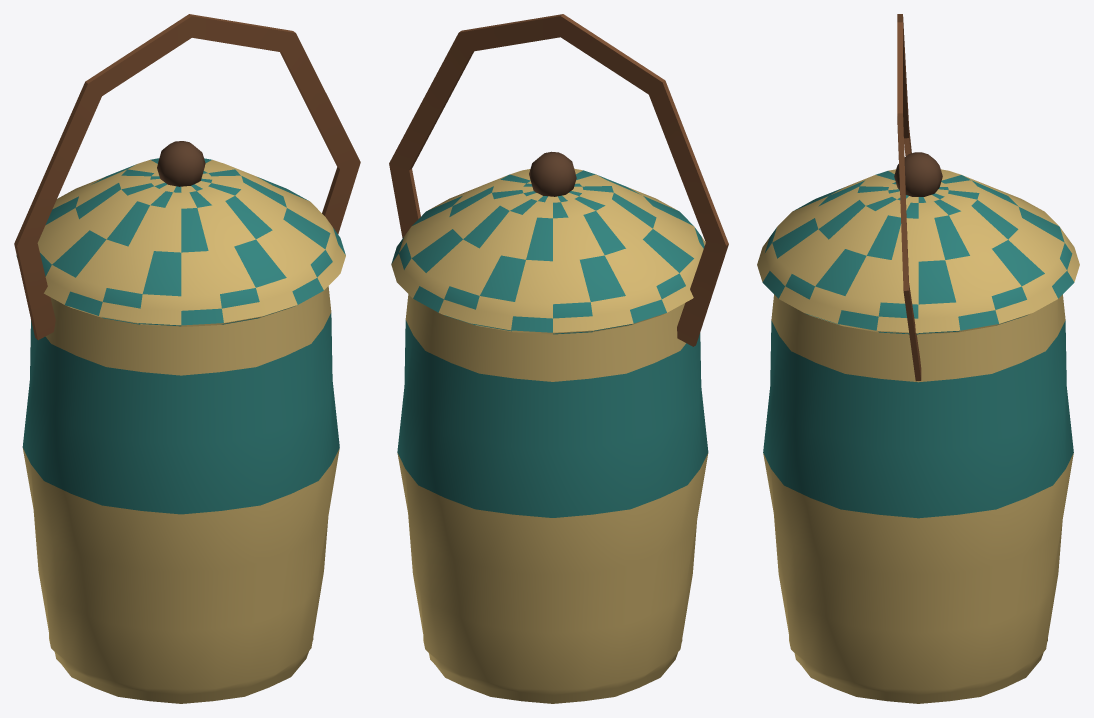
Rendered from deco_basket_tall.fbx.
3 renders of one model, left to right at view 1: azimuth 30°, elevation 25°; view 2: azimuth 150°, elevation 25°; view 3: azimuth 270°, elevation 25°, orthographic. The views are drawn at different scales.
Parts seen in each view (by area): view 1: Basket_Tall_Basket, Basket_Tall_Lid, Basket_Tall_Strap; view 2: Basket_Tall_Basket, Basket_Tall_Lid, Basket_Tall_Strap; view 3: Basket_Tall_Basket, Basket_Tall_Lid, Basket_Tall_Strap.
Boxes of the visible parts, x1,y1,x2,y2 form: Basket_Tall_Basket: (22, 286, 339, 703); Basket_Tall_Lid: (16, 141, 345, 326); Basket_Tall_Strap: (14, 14, 360, 340); Basket_Tall_Basket: (397, 294, 708, 703); Basket_Tall_Lid: (391, 151, 705, 334); Basket_Tall_Strap: (389, 14, 728, 346); Basket_Tall_Basket: (763, 294, 1073, 703); Basket_Tall_Lid: (757, 152, 1079, 334); Basket_Tall_Strap: (897, 14, 921, 381).
Size of the model in its own units: 82.99 by 148 by 68.9.
